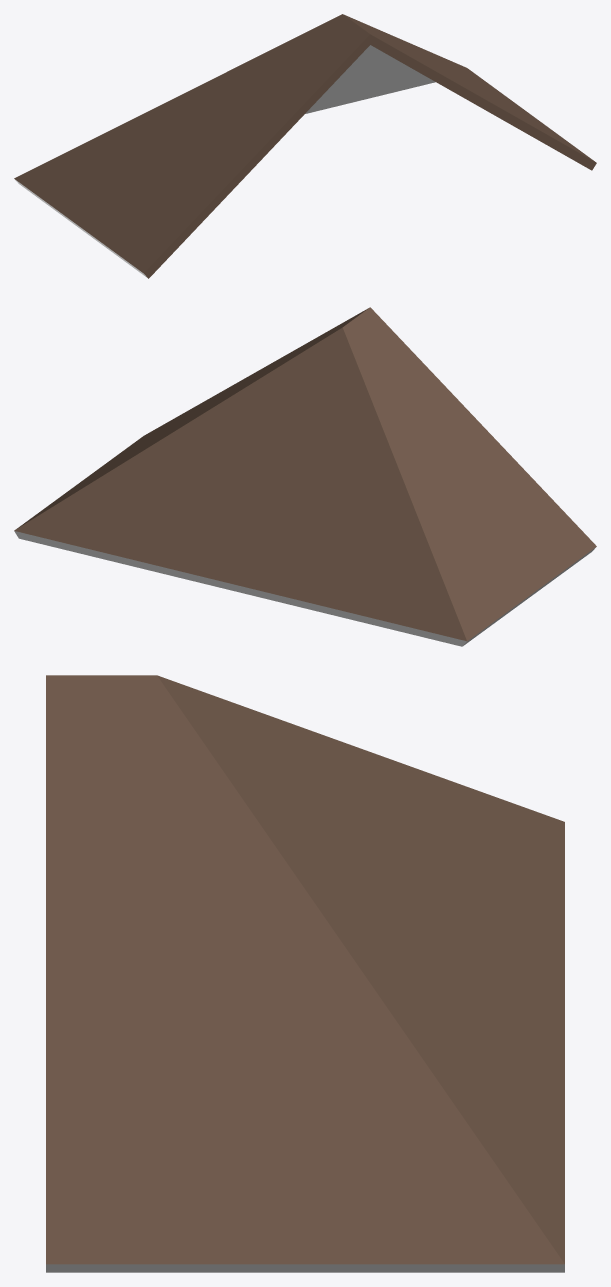
File: Roof1_C2_02.fbx
3 views of the same model, one above another, from view 1: azimuth 30°, elevation 25°; view 2: azimuth 150°, elevation 25°; view 3: azimuth 270°, elevation 25° (orthographic). The views are drawn at different scales.
Visible parts, largest first — view 1: Roof1_C2_02; view 2: Roof1_C2_02; view 3: Roof1_C2_02.
Part boxes in pixels (x1=…): Roof1_C2_02: x1=14, y1=14, x2=596, y2=278; Roof1_C2_02: x1=14, y1=307, x2=596, y2=646; Roof1_C2_02: x1=46, y1=675, x2=564, y2=1272.
Size of the model in its own units: 565 by 227 by 280.
